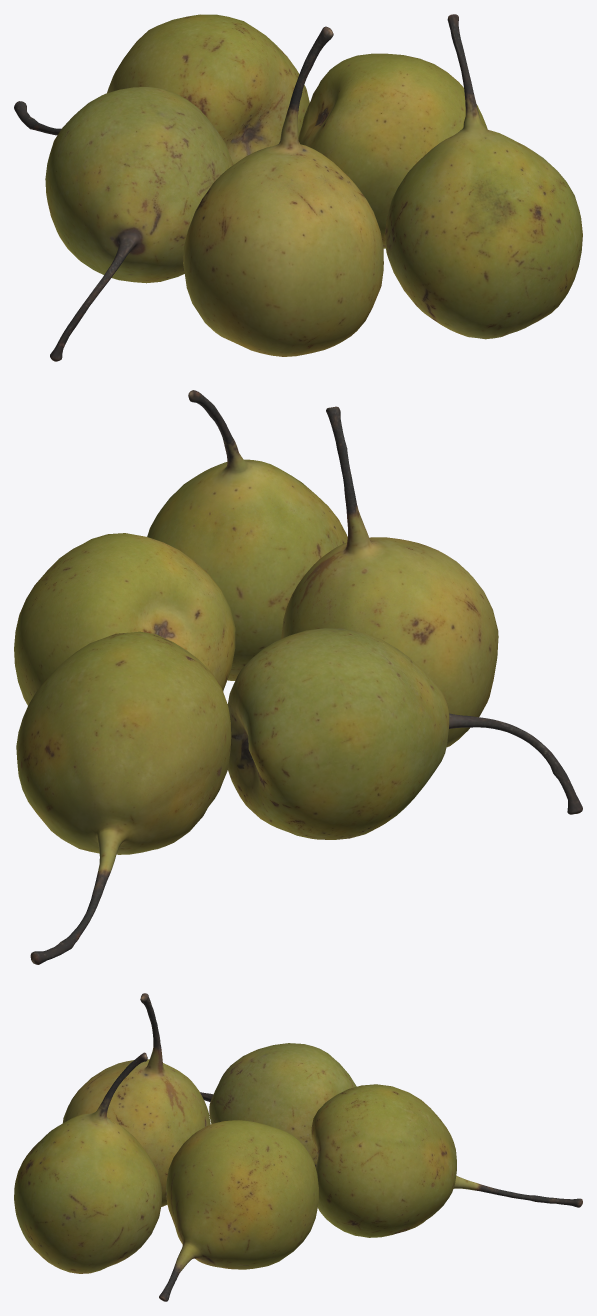
Rendered from asian_pear.glb.
3 renders of one model, top to bottom at view 1: azimuth 30°, elevation 25°; view 2: azimuth 150°, elevation 25°; view 3: azimuth 270°, elevation 25°, orthographic. The views are drawn at different scales.
Visible parts, largest first — view 1: food_pears_asian_01_c, food_pears_asian_01_e, food_pears_asian_01_a, food_pears_asian_01_d, food_pears_asian_01_b; view 2: food_pears_asian_01_b, food_pears_asian_01_a, food_pears_asian_01_c, food_pears_asian_01_e, food_pears_asian_01_d; view 3: food_pears_asian_01_d, food_pears_asian_01_b, food_pears_asian_01_e, food_pears_asian_01_a, food_pears_asian_01_c.
Boxes of the visible parts, x1,y1,x2,y2 form: food_pears_asian_01_c: (183, 26, 383, 356); food_pears_asian_01_e: (384, 14, 582, 339); food_pears_asian_01_a: (45, 87, 233, 361); food_pears_asian_01_d: (298, 53, 487, 248); food_pears_asian_01_b: (14, 14, 309, 164); food_pears_asian_01_b: (16, 631, 231, 964); food_pears_asian_01_a: (227, 628, 582, 839); food_pears_asian_01_c: (281, 406, 498, 747); food_pears_asian_01_e: (147, 390, 347, 680); food_pears_asian_01_d: (14, 533, 235, 705); food_pears_asian_01_d: (159, 1120, 318, 1301); food_pears_asian_01_b: (311, 1084, 582, 1237); food_pears_asian_01_e: (14, 1052, 161, 1273); food_pears_asian_01_a: (200, 1043, 356, 1167); food_pears_asian_01_c: (63, 993, 210, 1206).
Bounding box in the file's own units: 2.73 × 1.54 × 3.61.
Materials: 1 (1 with a texture image).
